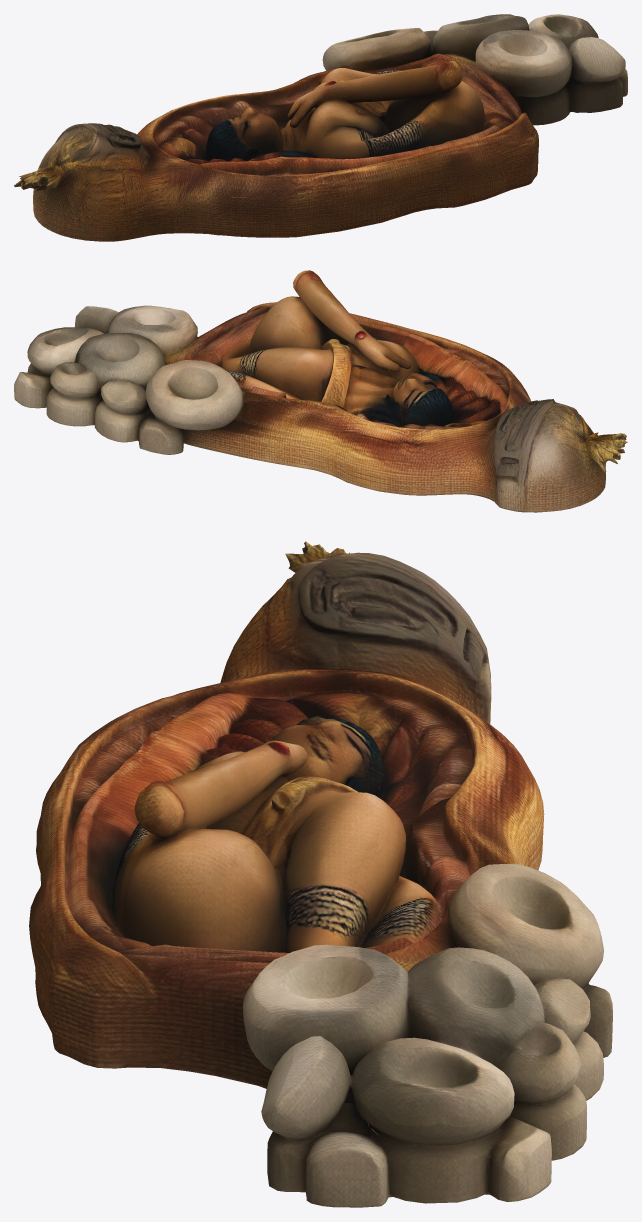
The model's file is entierro.glb.
3 renders of one model, top to bottom at view 1: azimuth 30°, elevation 25°; view 2: azimuth 150°, elevation 25°; view 3: azimuth 270°, elevation 25°, orthographic. The views are drawn at different scales.
Visible parts, largest first — view 1: Mesh; view 2: Mesh; view 3: Mesh.
Part boxes in pixels (left/top/right/bottom): Mesh: left=14, top=14, right=627, bottom=241; Mesh: left=14, top=270, right=627, bottom=512; Mesh: left=29, top=541, right=612, bottom=1207.
Bounding box in the file's own units: 0.5931 × 0.1084 × 0.2623.
1 material, 1 textured.
